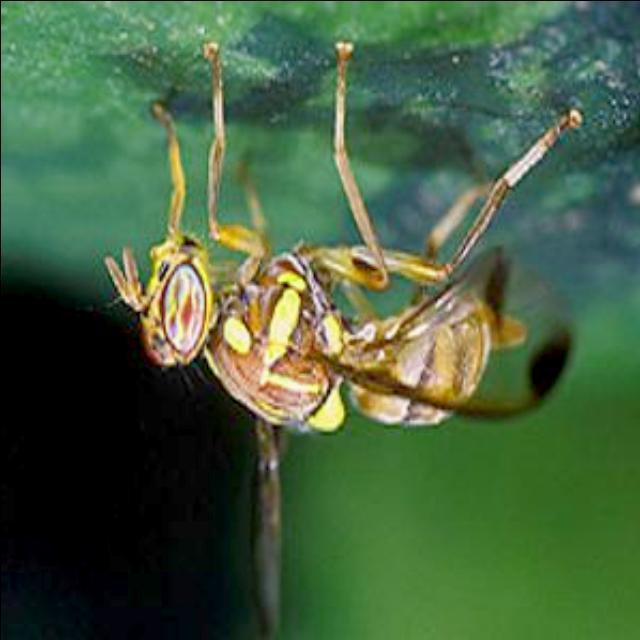melon fly: (90, 21, 636, 533)
